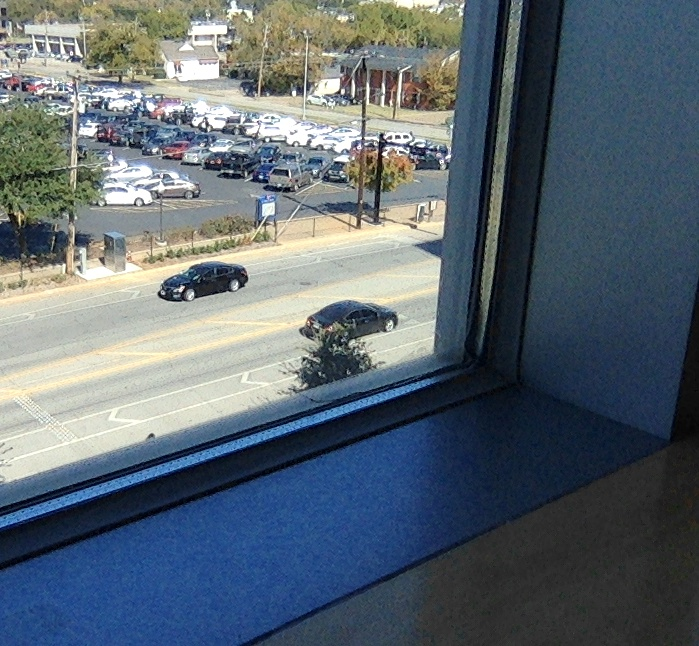car: (300, 300, 399, 346)
